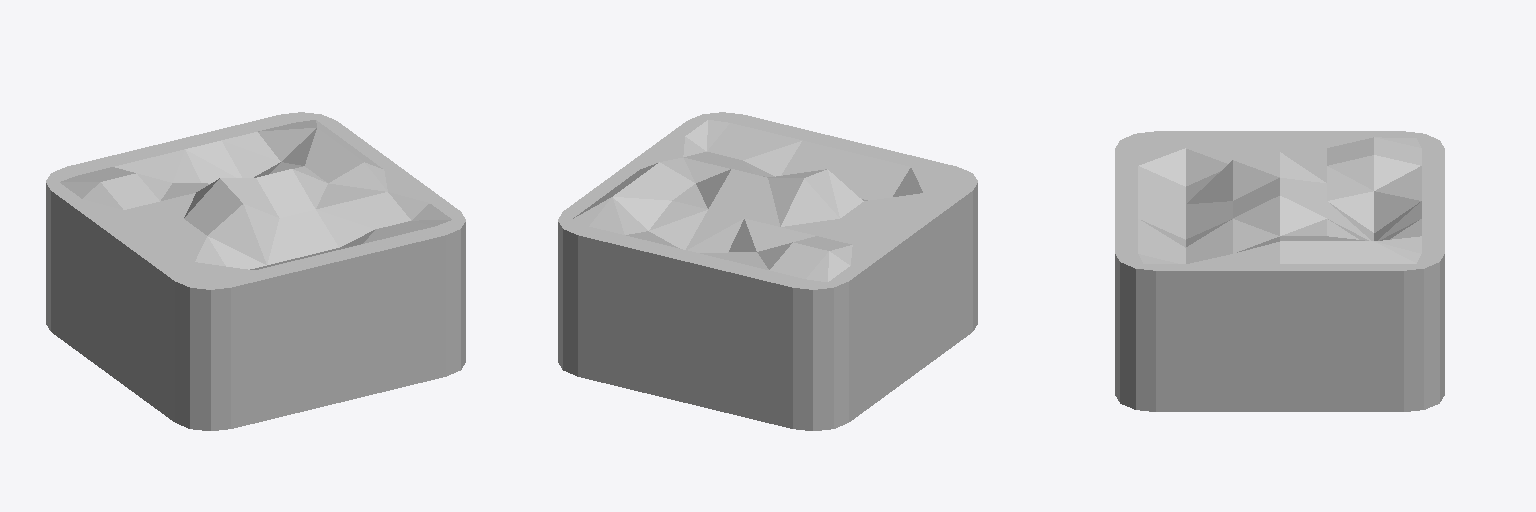
The model's file is tile_water.obj.
3 renders of one model, left to right at view 1: azimuth 30°, elevation 25°; view 2: azimuth 150°, elevation 25°; view 3: azimuth 270°, elevation 25°, orthographic.
Parts seen in each view (by area): view 1: Cube.001; view 2: Cube.001; view 3: Cube.001.
Part boxes in pixels (left/top/right/bottom): Cube.001: left=46, top=112, right=465, bottom=430; Cube.001: left=558, top=112, right=977, bottom=430; Cube.001: left=1115, top=131, right=1444, bottom=411.
Size of the model in its own units: 2 by 1.16 by 2.